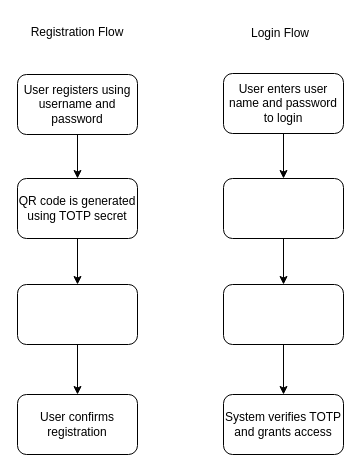
Image size: 361x472. Some labels were removed from this diagram. Each missing label, with the centre of its shape:
System verifies creds and prompts for TOTP: pixel 283 208
User Enter TOTP from auth app: pixel 283 314
User scans the secret using Authenticator app: pixel 77 314
